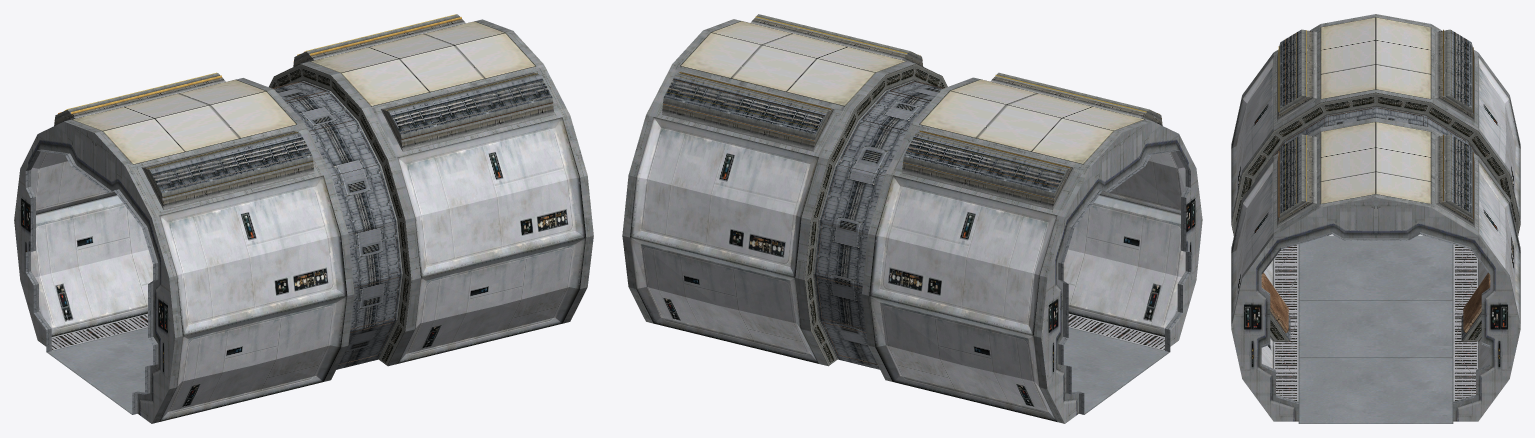
Rendered from poi_all_rebl_bunker_s01_r9_hallway3_mesh_r9.fbx.
3 renders of one model, left to right at view 1: azimuth 30°, elevation 25°; view 2: azimuth 150°, elevation 25°; view 3: azimuth 270°, elevation 25°, orthographic. The views are drawn at different scales.
Visible parts, largest first — view 1: mesh_node; view 2: mesh_node; view 3: mesh_node.
Boxes of the visible parts, x1,y1,x2,y2 form: mesh_node: (14, 14, 593, 423); mesh_node: (622, 14, 1202, 423); mesh_node: (1231, 14, 1520, 423).
Size of the model in its own units: 8 by 4.44 by 5.2.
